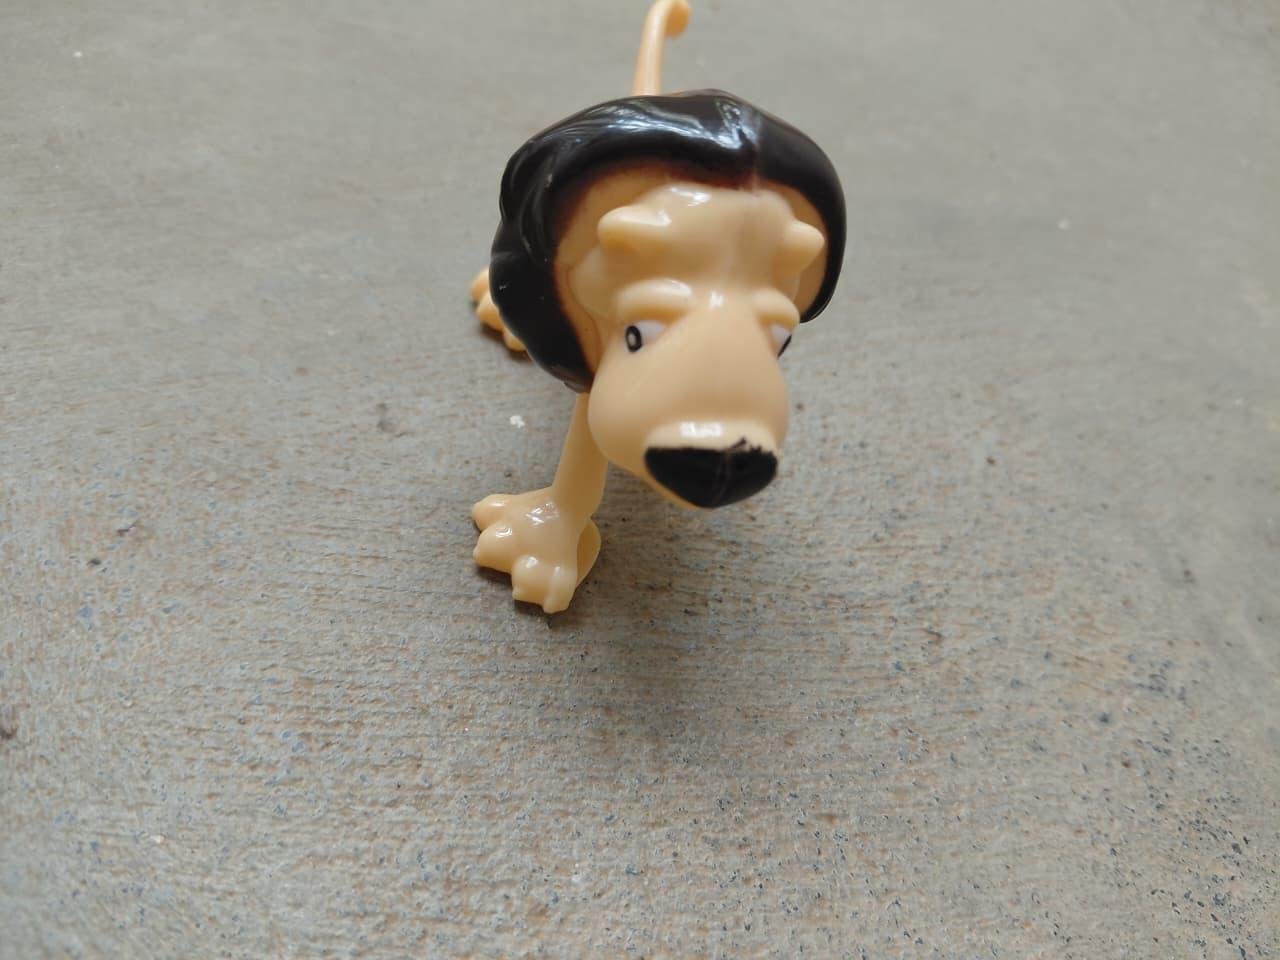lion: (436, 6, 848, 628)
